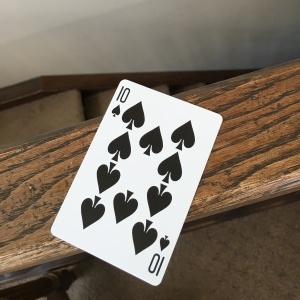card: (50, 77, 225, 289)
